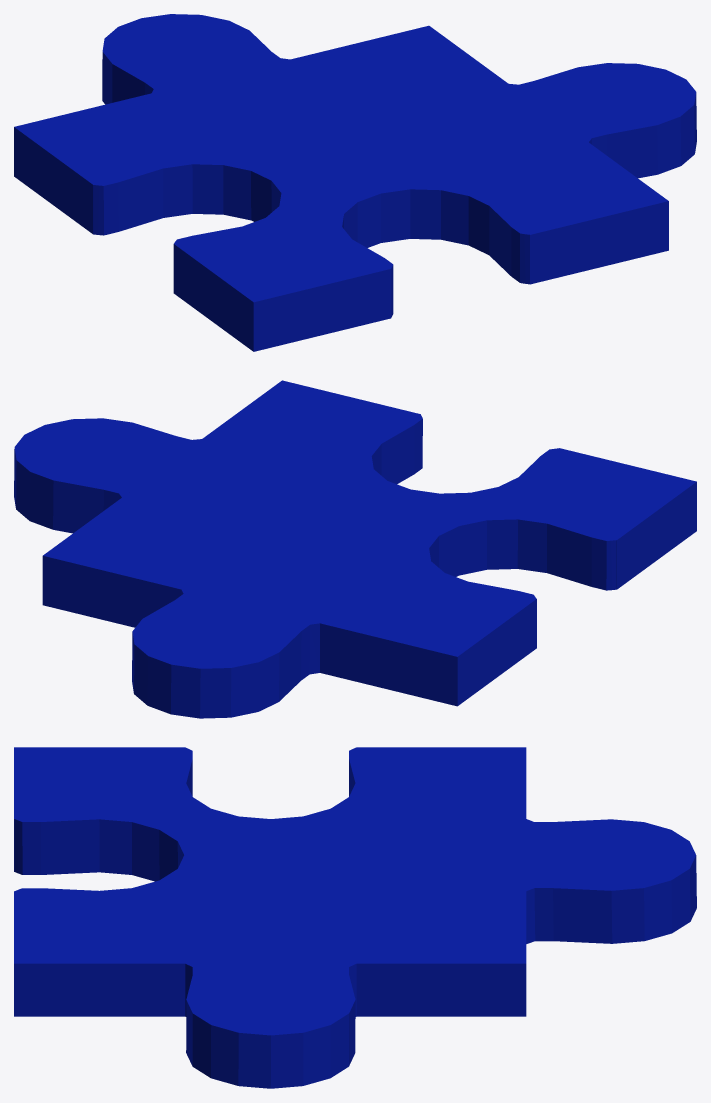
File: puzzle_piece_04.fbx
The picture shows the model from 3 angles, top to bottom: view 1: azimuth 30°, elevation 25°; view 2: azimuth 150°, elevation 25°; view 3: azimuth 270°, elevation 25°; orthographic projection. The views are drawn at different scales.
Visible parts, largest first — view 1: Puzzle Piece 4; view 2: Puzzle Piece 4; view 3: Puzzle Piece 4.
Boxes of the visible parts, bbox=[...] form: Puzzle Piece 4: bbox=[14, 14, 696, 351]; Puzzle Piece 4: bbox=[14, 380, 696, 718]; Puzzle Piece 4: bbox=[14, 747, 696, 1088].
Size of the model in its own units: 200 by 17.12 by 200.
